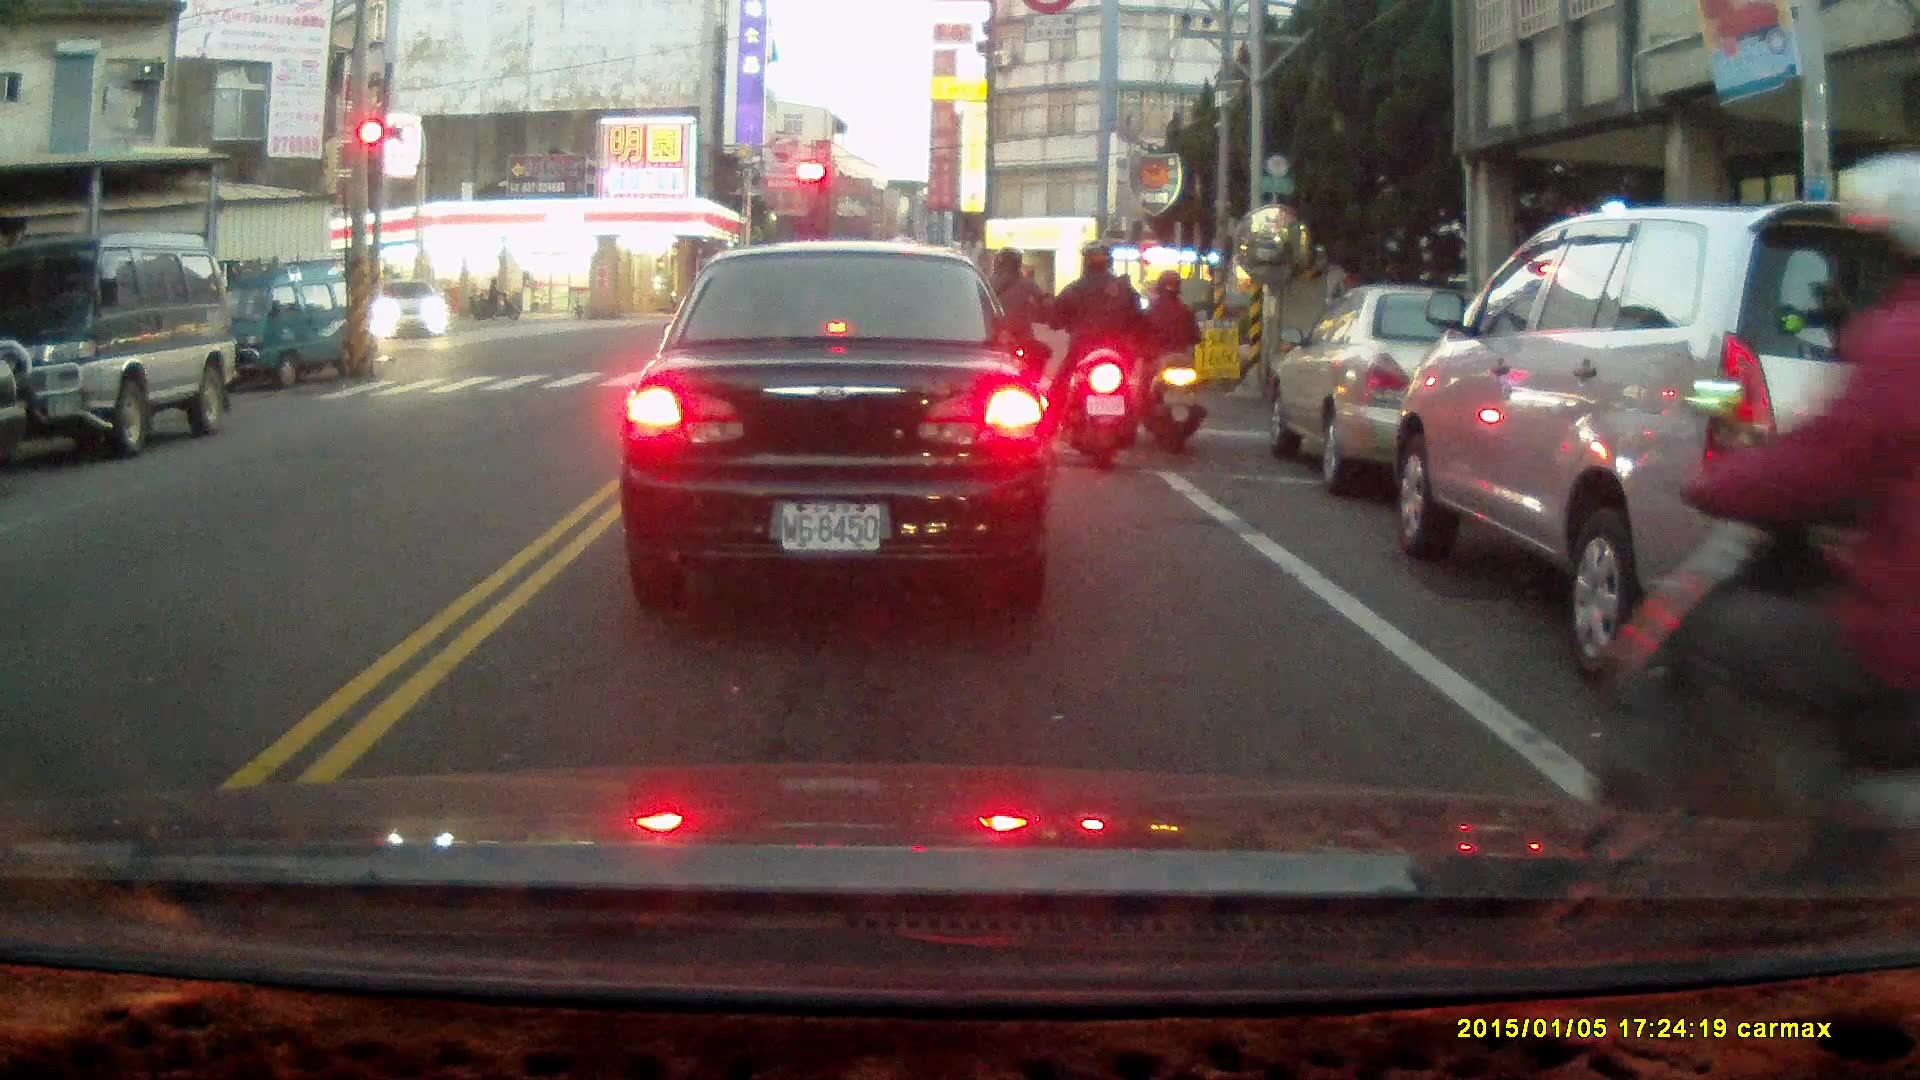rider: (1583, 149, 1920, 890), (1048, 242, 1141, 468), (960, 240, 1056, 430), (1135, 270, 1205, 451), (472, 278, 515, 317)
vehicle: (1390, 206, 1914, 700), (617, 243, 1061, 606), (1269, 285, 1575, 496), (1, 234, 239, 458), (192, 257, 378, 393), (372, 277, 451, 343)
